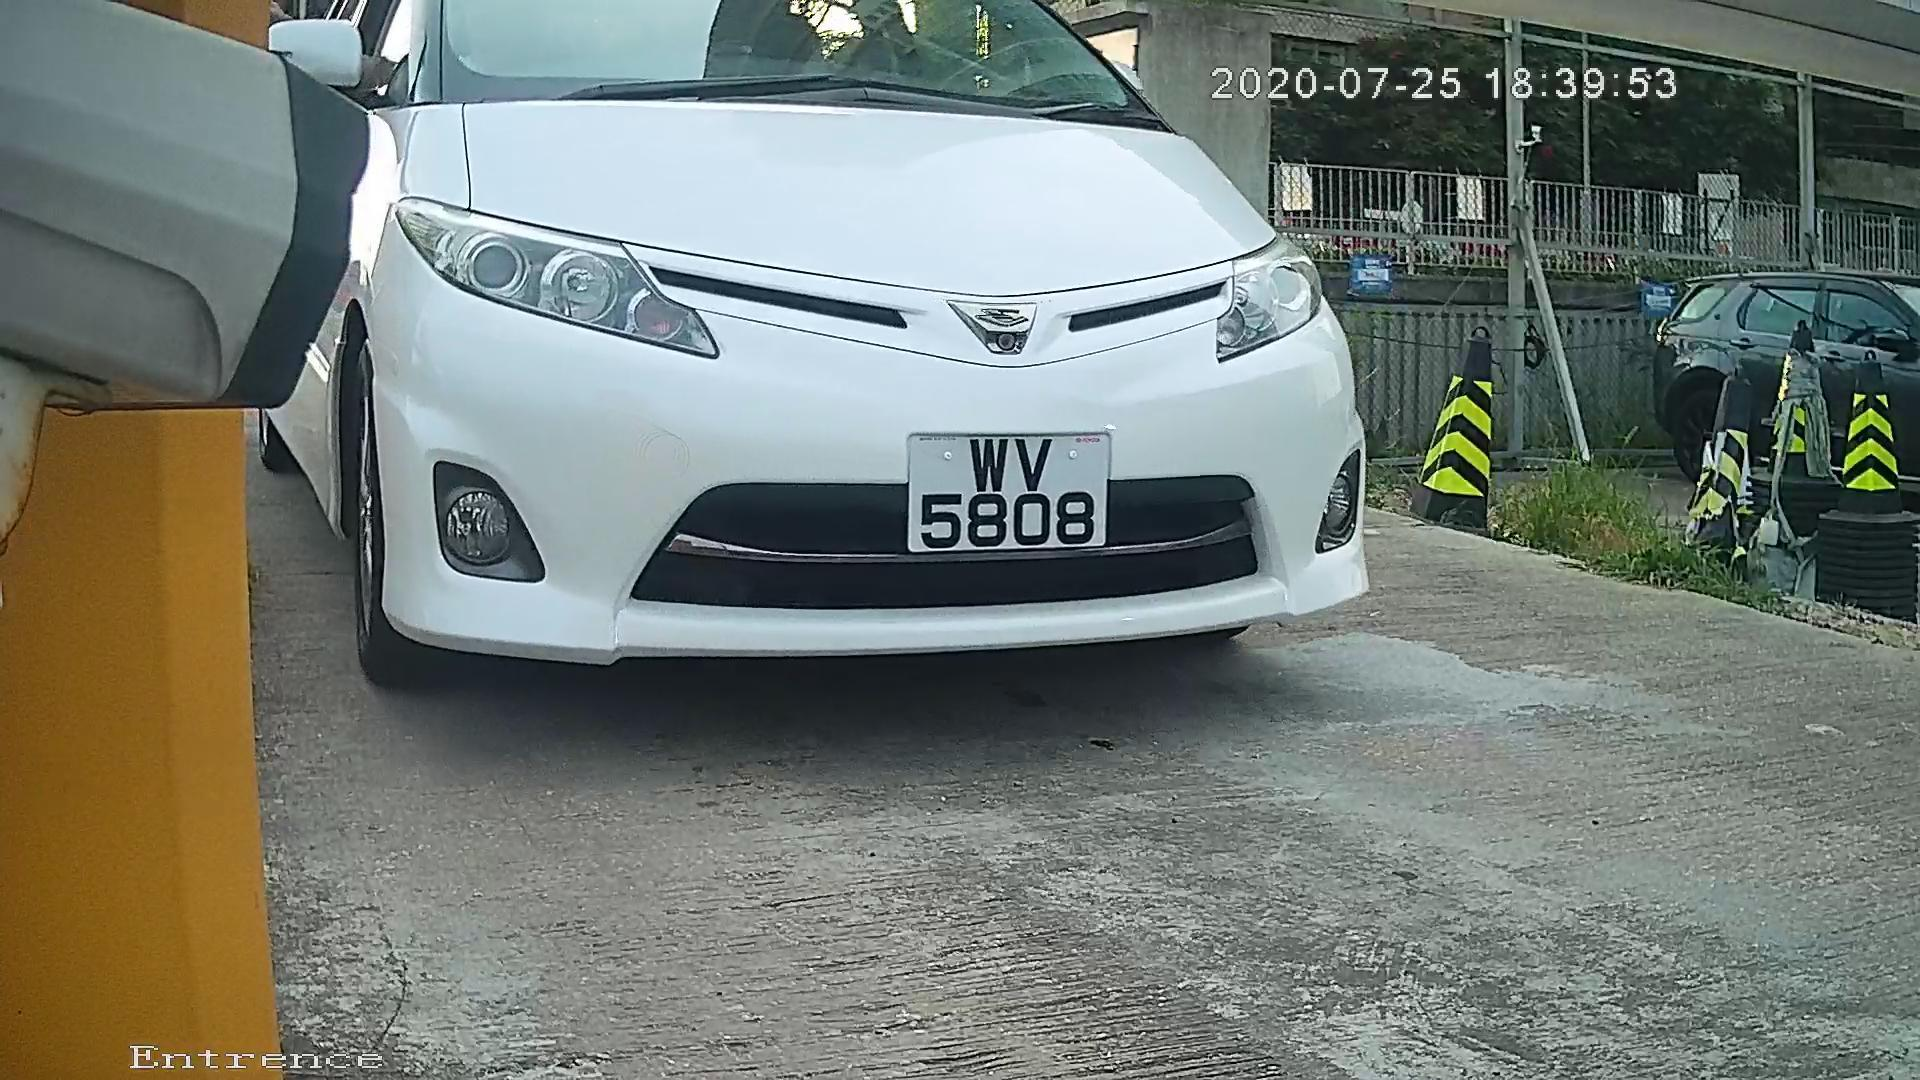privatecar: (232, 1, 1518, 733)
